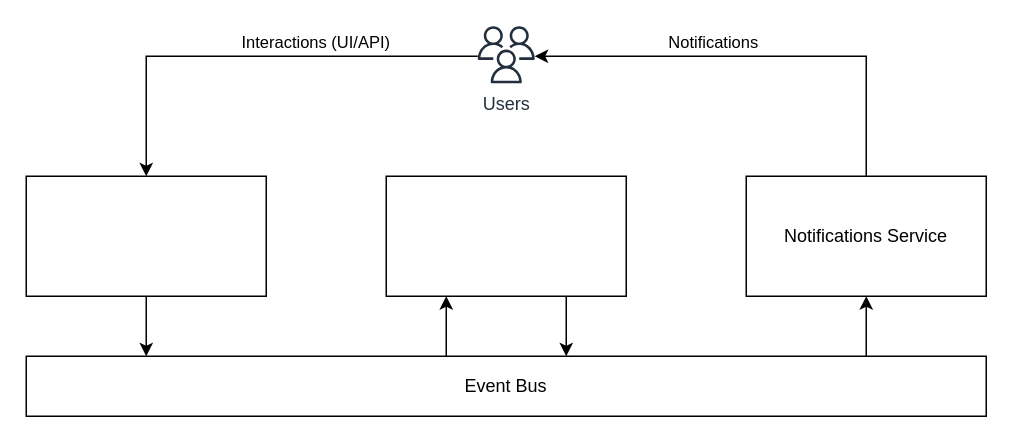
This 1013x443 diagram has some shape labels left out. Each missing label, with the centre of its shape:
"ChoCoop App" goes at (x=145, y=235).
"Kimbalontek Engine" goes at (x=505, y=235).
